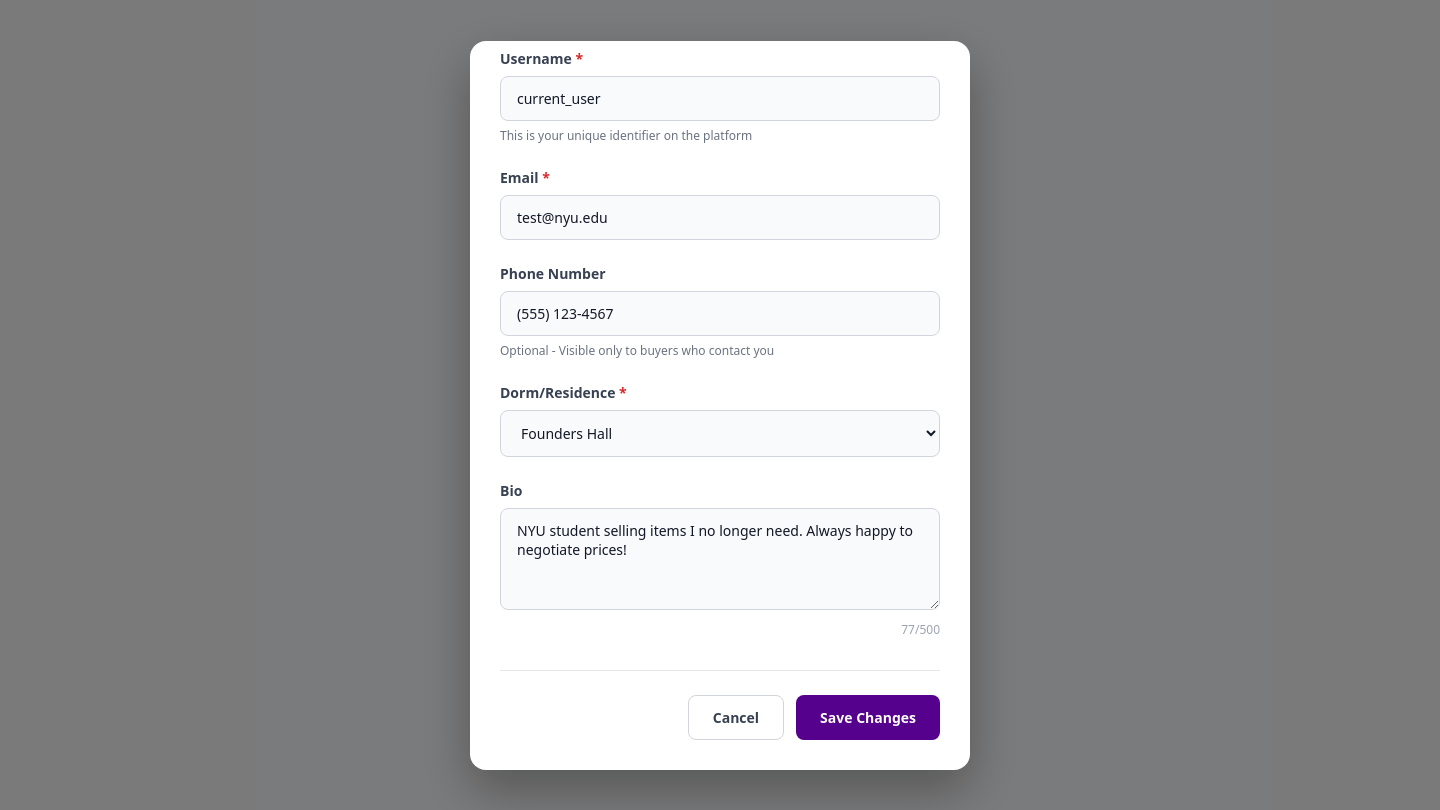
EditProfile › Bio Character Limit › updates character count as user types
The width and height of the screenshot is (1440, 810).
(page scrolled)
Replace the text in the text box labelled "Bio" with "Short bio" at point(720, 558), box [500,508,940,610]
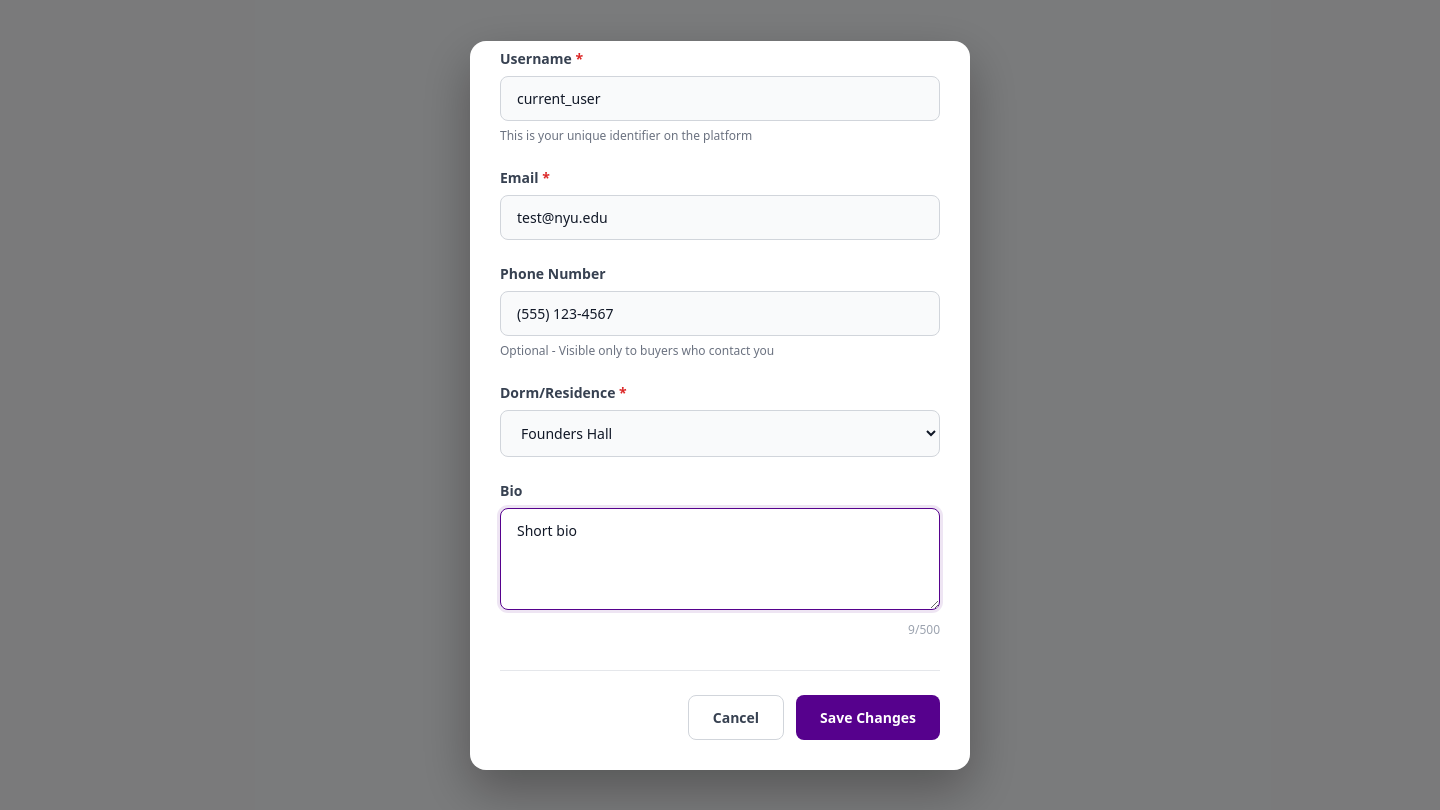
Result: the text "9/500" is shown at [908,620,940,638]
